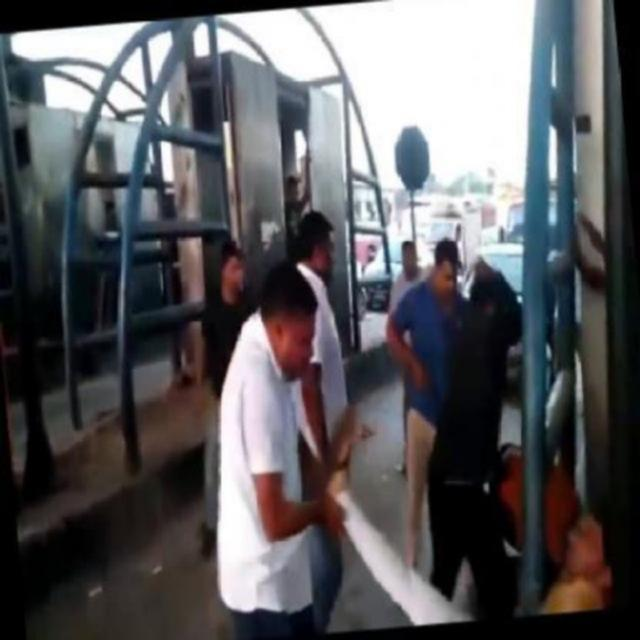fight: (406, 238, 548, 576)
